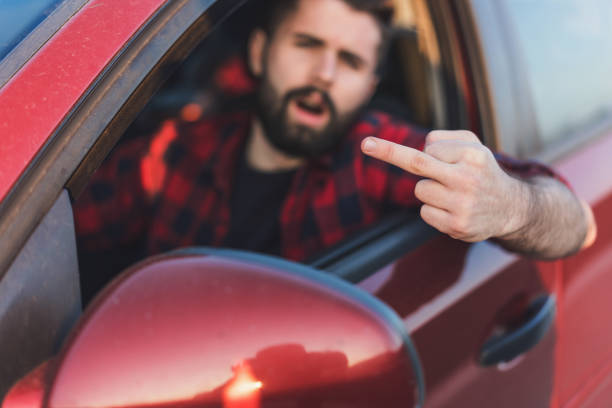insulting_gesture: (359, 127, 513, 246)
